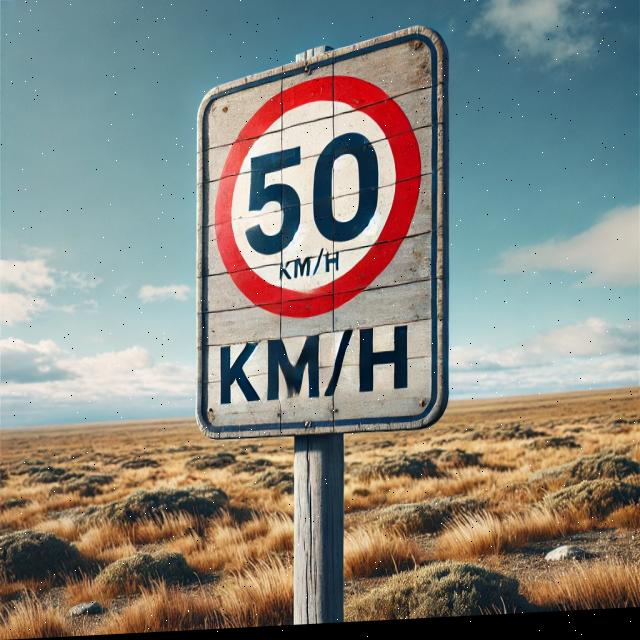Speed limit 50: (214, 74, 424, 327)
